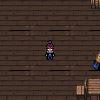Victim: (44, 39, 56, 63)
Win: (90, 51, 100, 71)
